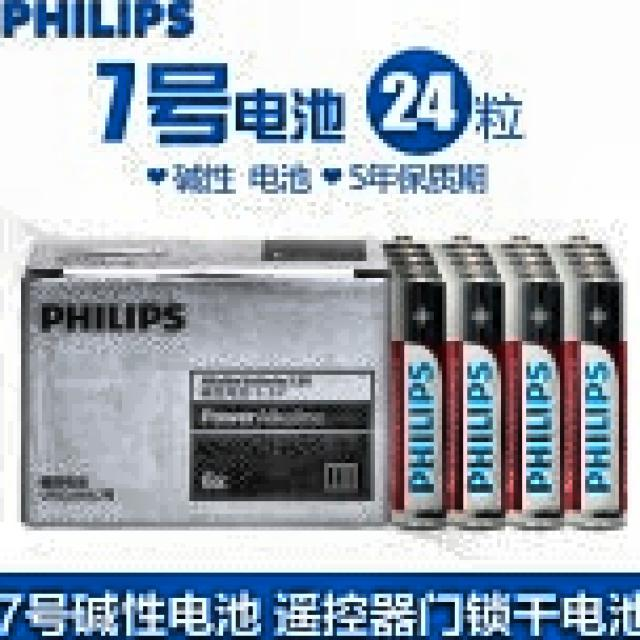Non-Valuable Waste - Batteries: (385, 237, 626, 526)
